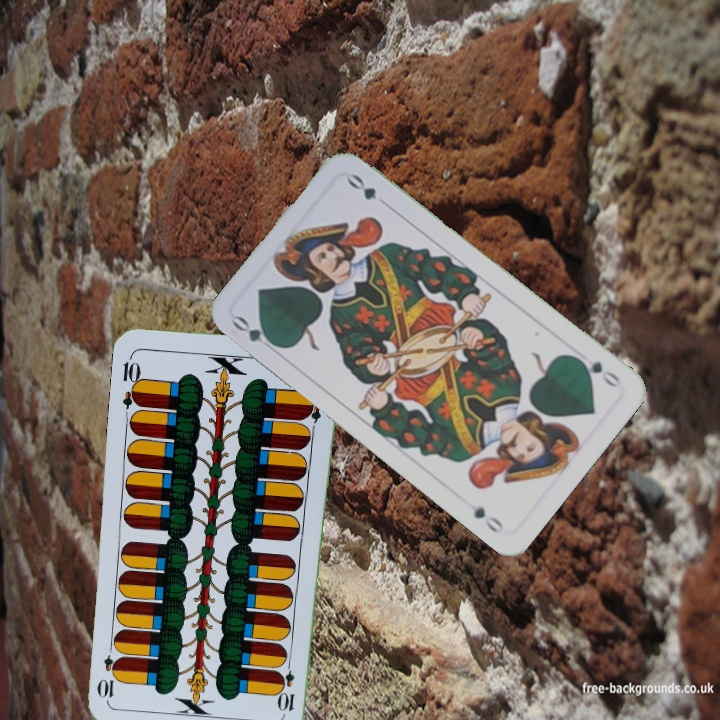E10: (118, 351, 145, 410), (278, 655, 297, 714)
GO: (228, 311, 283, 351), (571, 352, 623, 390)
